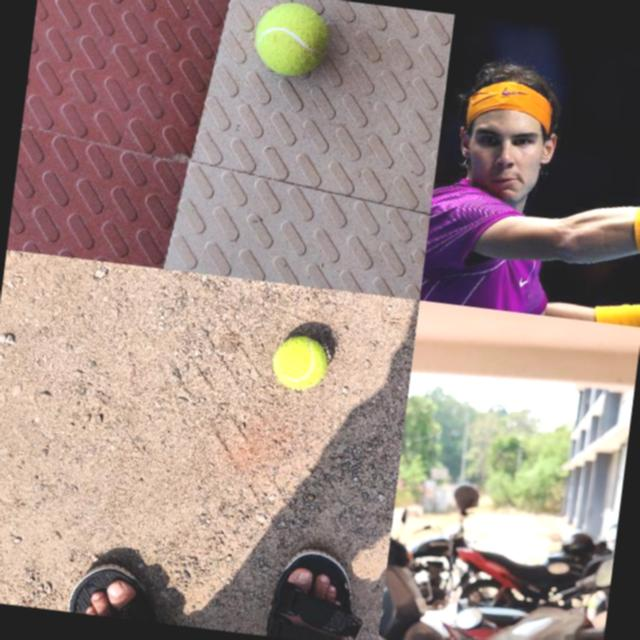tennis-ball: (251, 0, 332, 79), (270, 333, 328, 392)
